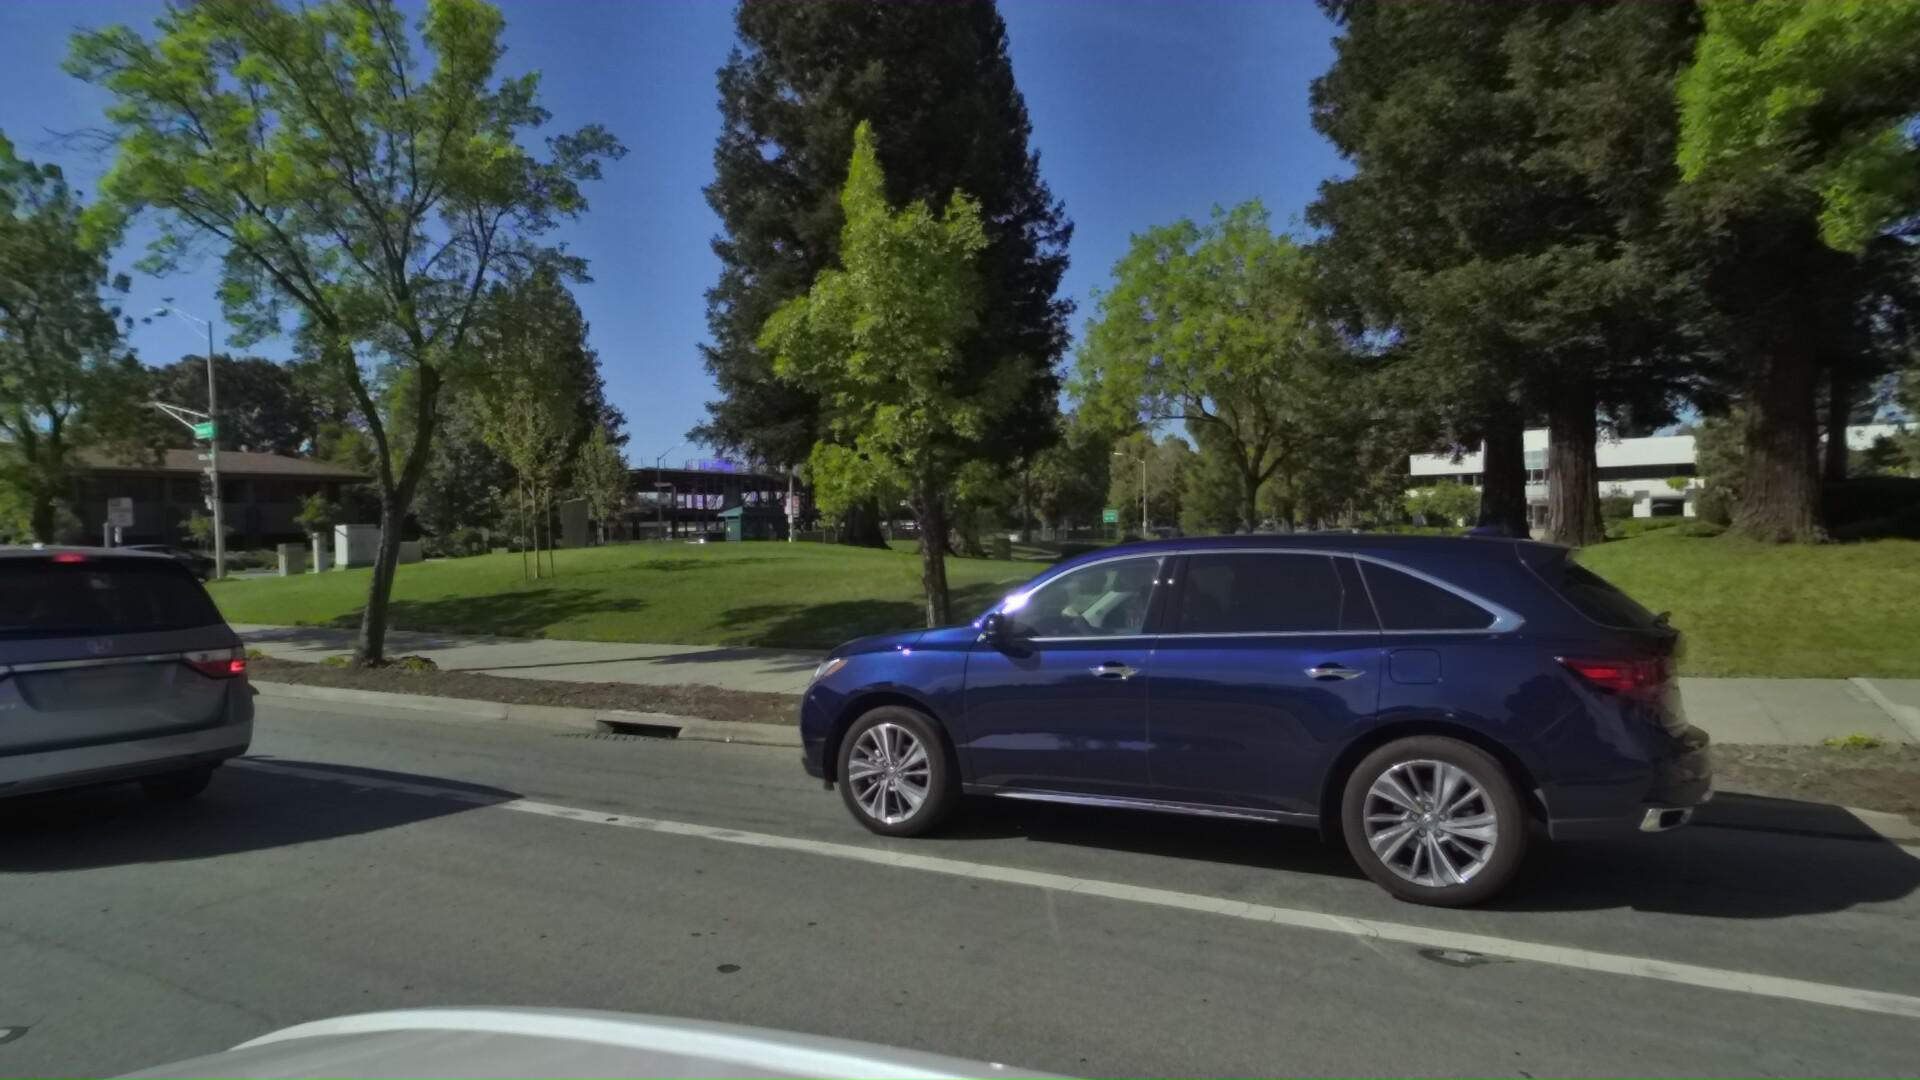car: (728, 487, 1652, 955), (0, 522, 287, 899), (84, 541, 236, 584), (686, 529, 760, 556)
